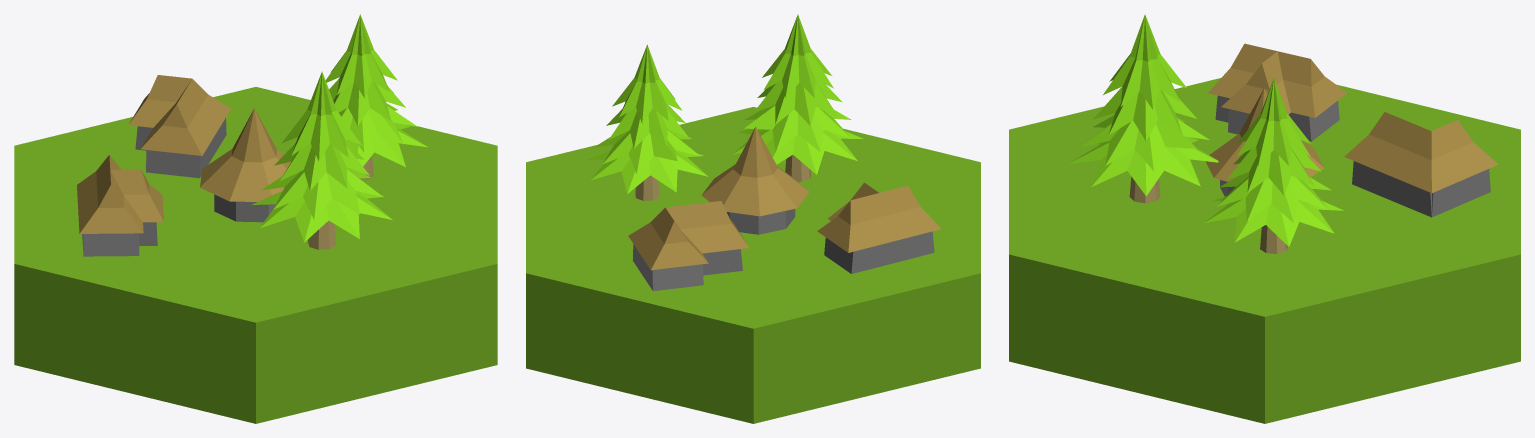
Rendered from Casas_Pinos_Altos_3.fbx.
3 renders of one model, left to right at view 1: azimuth 30°, elevation 25°; view 2: azimuth 150°, elevation 25°; view 3: azimuth 270°, elevation 25°, orthographic. The views are drawn at different scales.
Visible parts, largest first — view 1: Casas_Pinos_Altos_3; view 2: Casas_Pinos_Altos_3; view 3: Casas_Pinos_Altos_3.
Part boxes in pixels (<box>): Casas_Pinos_Altos_3: <box>14,14,497,423</box>; Casas_Pinos_Altos_3: <box>526,14,980,423</box>; Casas_Pinos_Altos_3: <box>1009,14,1520,423</box>.
Bounding box in the file's own units: 200 × 108 × 173.
